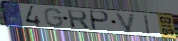4: (23, 5, 43, 28)
G: (43, 7, 65, 28)
I: (143, 14, 153, 36)
P: (90, 10, 112, 32)
R: (66, 9, 91, 31)
V: (114, 12, 137, 34)
